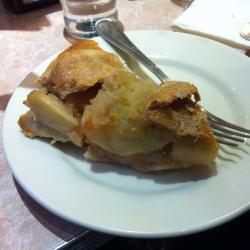apple_pie: (23, 36, 225, 187)
